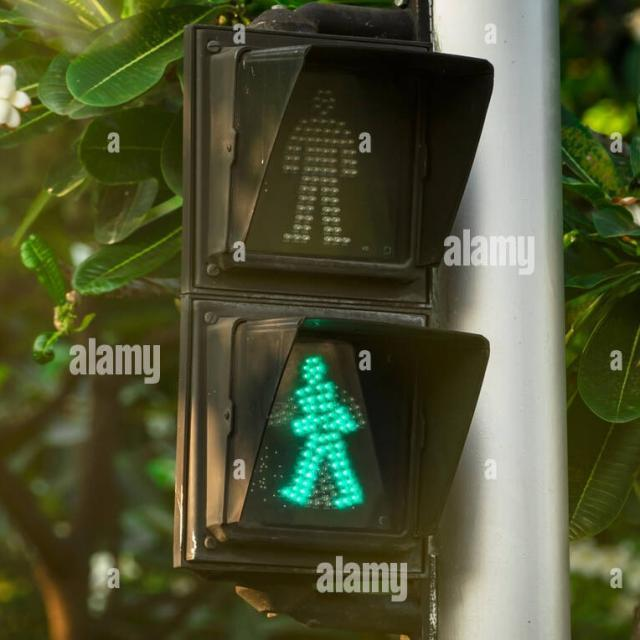geen-crossing: (270, 341, 360, 511)
